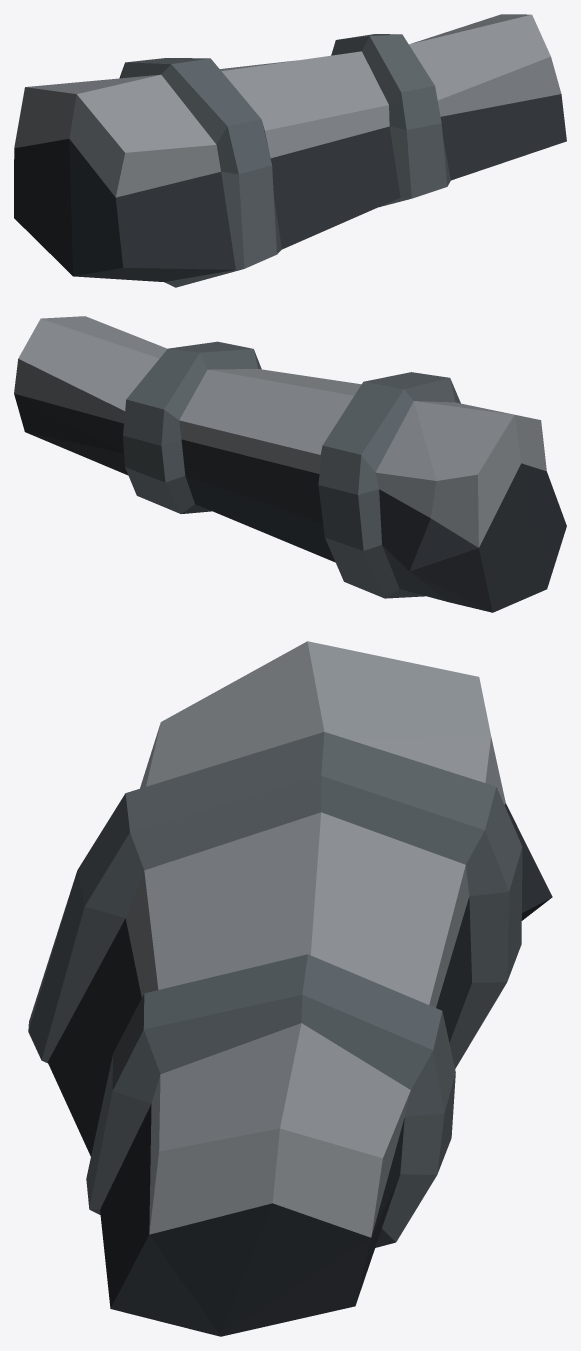
The model's file is Chr_ArmLowerLeft_Male_16_Static.fbx.
3 views of the same model, one above another, from view 1: azimuth 30°, elevation 25°; view 2: azimuth 150°, elevation 25°; view 3: azimuth 270°, elevation 25° (orthographic). The views are drawn at different scales.
Parts seen in each view (by area): view 1: Chr_ArmLowerLeft_Male_16_Static; view 2: Chr_ArmLowerLeft_Male_16_Static; view 3: Chr_ArmLowerLeft_Male_16_Static.
Part boxes in pixels (bbox=[...]): Chr_ArmLowerLeft_Male_16_Static: bbox=[14, 14, 566, 287]; Chr_ArmLowerLeft_Male_16_Static: bbox=[14, 316, 566, 612]; Chr_ArmLowerLeft_Male_16_Static: bbox=[28, 641, 552, 1336].
Bounding box in the file's own units: 0.2896 × 0.1177 × 0.1373.
